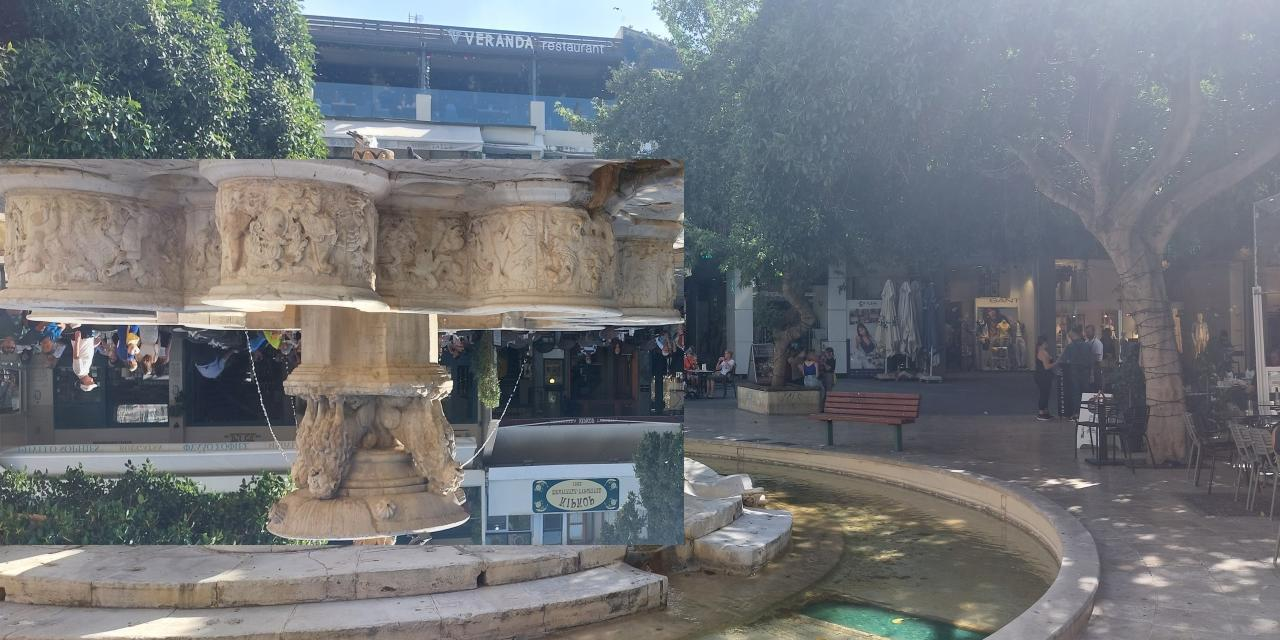Liontaria: (1, 160, 685, 546)
